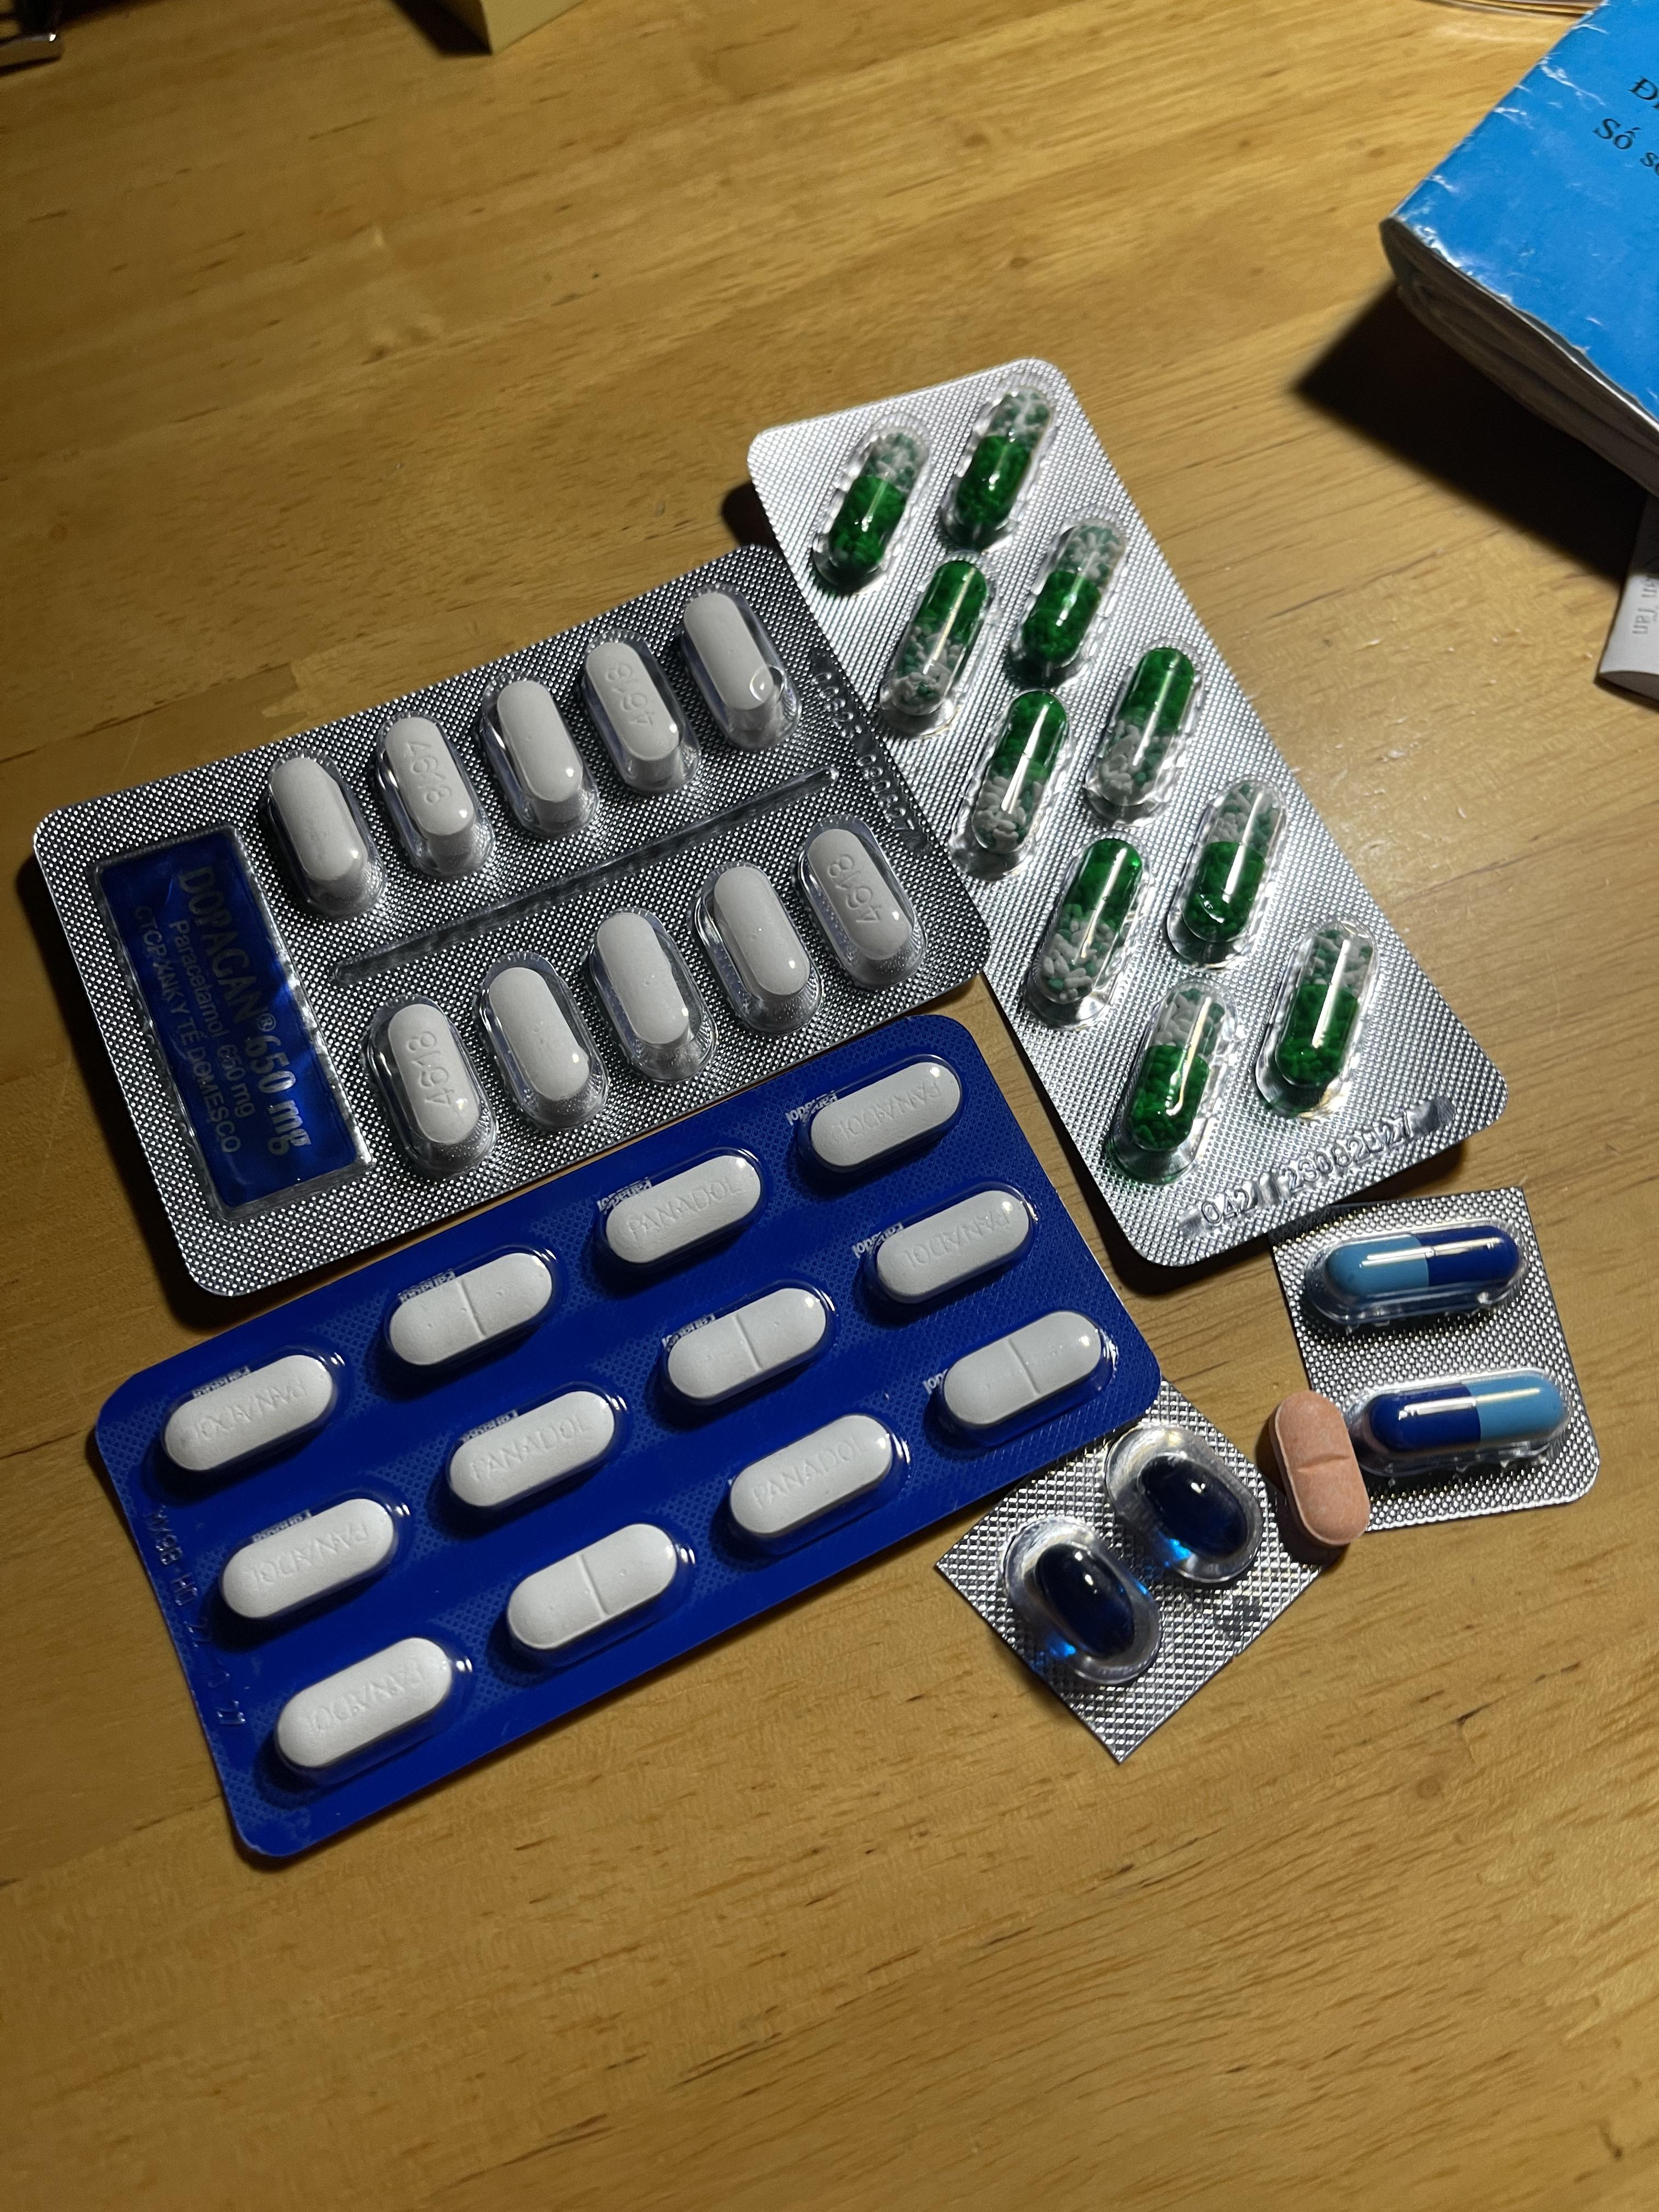Lincomyxin_500mg: (1037, 1541, 1140, 1656), (1145, 1454, 1251, 1559)
Loratadine_10mg: (1263, 1392, 1371, 1554)
Paracetamol_350mg: (274, 1634, 462, 1782), (505, 1522, 687, 1663), (220, 1493, 403, 1630), (727, 1413, 904, 1554), (162, 1348, 343, 1480), (934, 1310, 1107, 1446), (660, 1282, 835, 1413), (446, 1386, 620, 1517), (387, 1247, 554, 1379), (596, 1153, 765, 1275), (805, 1059, 967, 1179), (875, 1184, 1037, 1303)
Paracetamol_500mg: (476, 960, 612, 1130), (368, 998, 498, 1167), (579, 631, 706, 796), (265, 754, 387, 921), (484, 674, 603, 838), (375, 714, 493, 878), (802, 824, 920, 988), (683, 589, 796, 751), (594, 911, 697, 1061), (708, 862, 812, 1005)
Paracetamol_650mg: (1101, 975, 1234, 1174), (1256, 923, 1380, 1109), (1166, 780, 1281, 960), (878, 556, 997, 726), (1084, 648, 1197, 822), (1028, 836, 1141, 1010), (939, 385, 1060, 549), (1007, 519, 1124, 685), (962, 697, 1070, 860), (821, 428, 927, 583)
pill: (1361, 1372, 1563, 1460), (1330, 1230, 1518, 1298)
